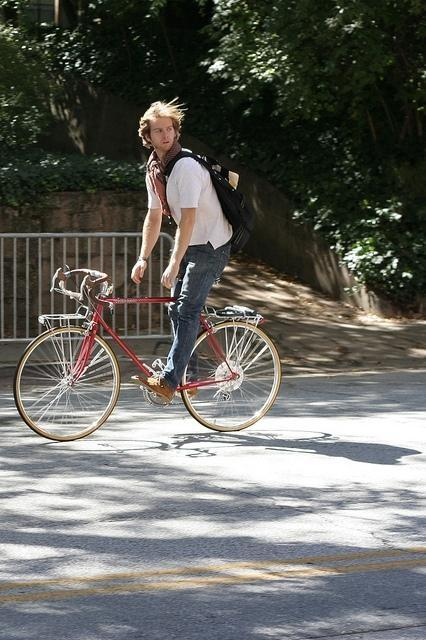bicycle: (12, 262, 282, 443)
